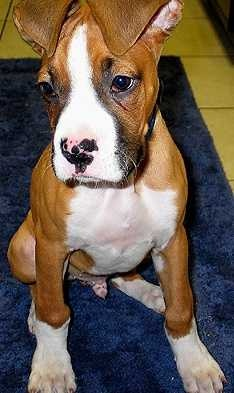dog: (0, 0, 234, 331)
